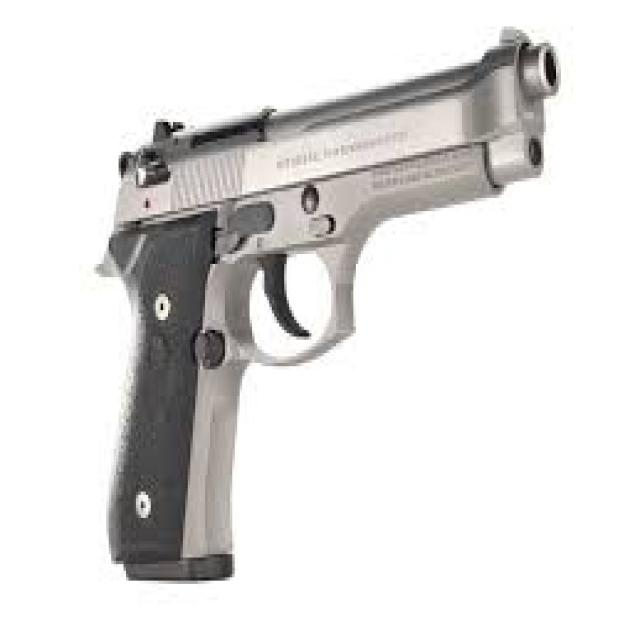pistol: (95, 15, 567, 594)
